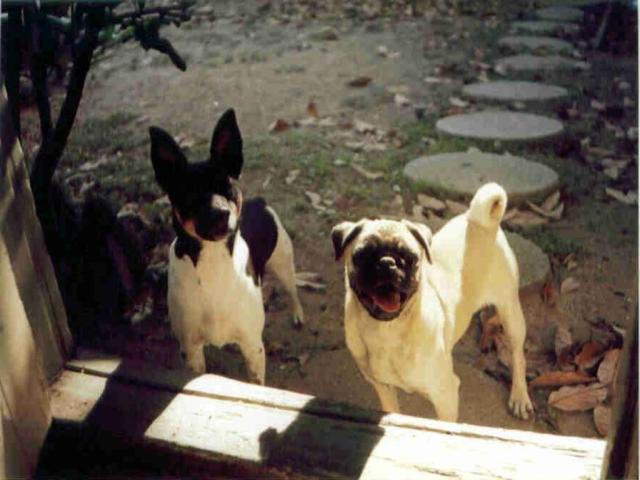Dog: (331, 180, 535, 426), (148, 107, 307, 385)
